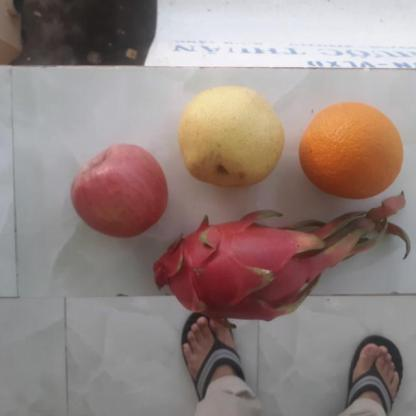apple: (66, 143, 169, 236)
orange: (294, 99, 408, 200)
pear: (174, 86, 286, 184)
pitaya: (152, 211, 336, 323)
